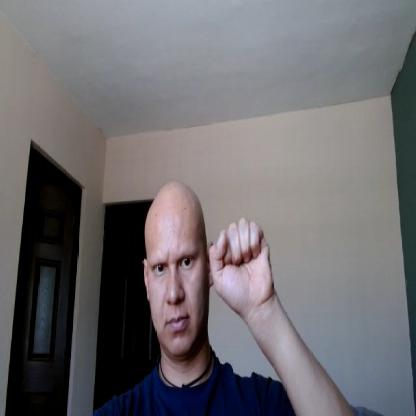S: (211, 214, 274, 309)
